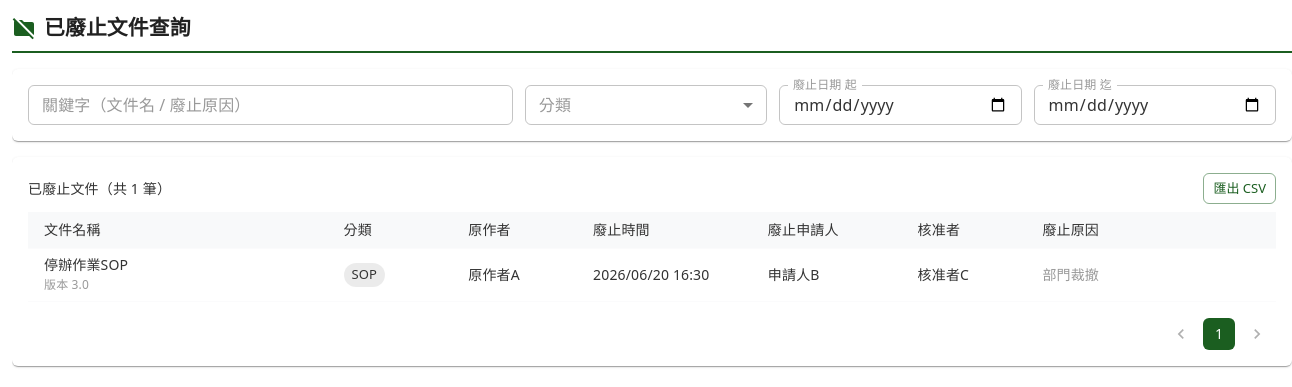
Scenario: DmObsoletePage 已廢止文件查詢 › 分類下拉取自後端：後台新增的分類也列得出來
This screenshot has width=1292, height=387.
Expected: the text "停辦作業SOP" is shown, top-left (44, 255), bottom-right (128, 274)
What coordinates should you click on to do the following:
click the dropdown named "分類"
I would click on:
 (646, 105)
Its box is top-left (525, 85), bottom-right (767, 125).
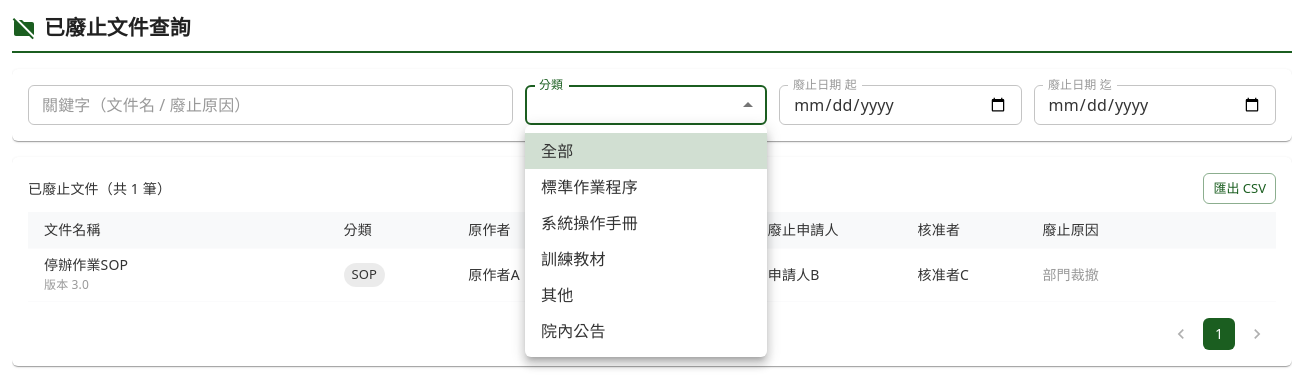
Now the option "院內公告" is shown, box top-left (541, 320), bottom-right (606, 342)
Now the option "標準作業程序" is shown, box top-left (541, 176), bottom-right (638, 198)
